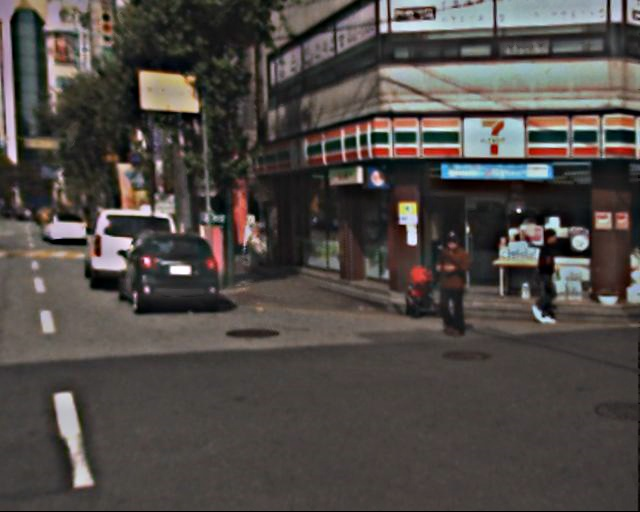person: (434, 236, 483, 338), (530, 229, 573, 326)
